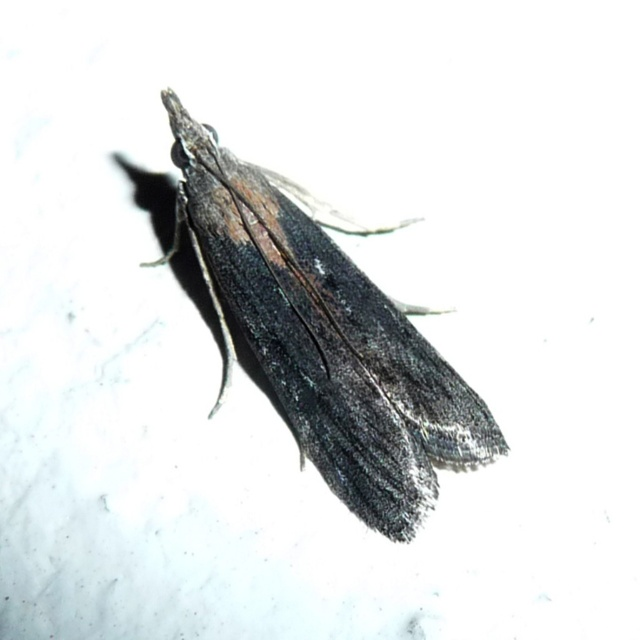Moths and butterflies: (133, 80, 508, 542)
